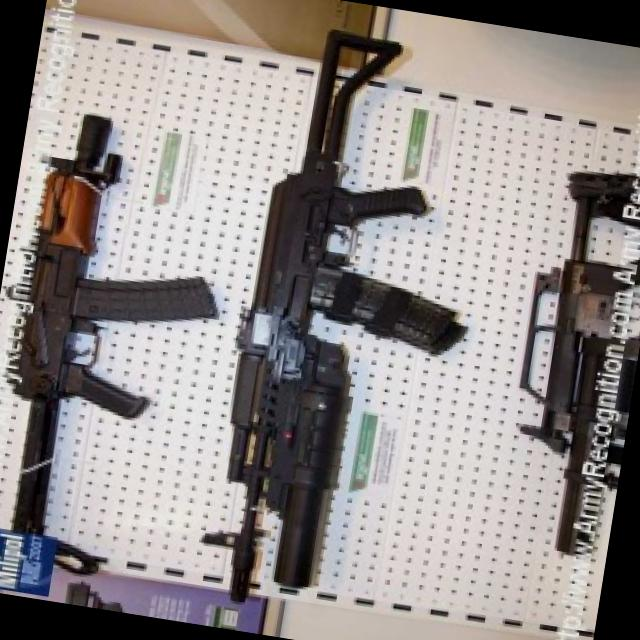long weapon: (173, 6, 491, 626), (0, 113, 198, 500), (461, 174, 639, 587)
